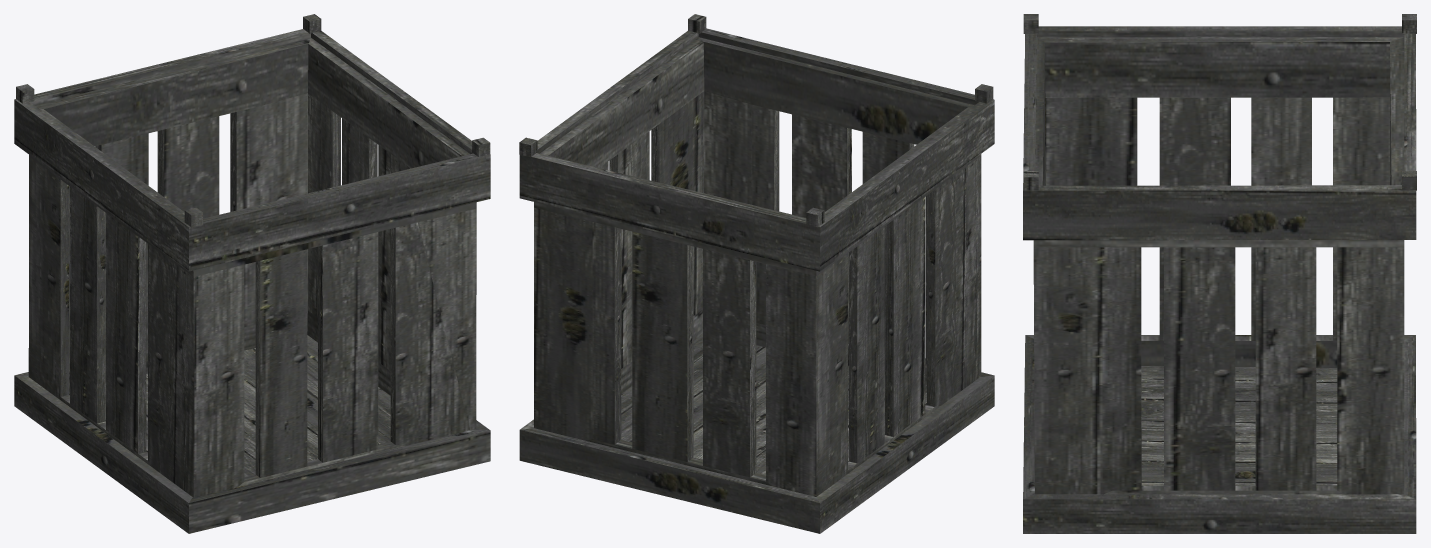
The model's file is BoxA.dae.
3 renders of one model, left to right at view 1: azimuth 30°, elevation 25°; view 2: azimuth 150°, elevation 25°; view 3: azimuth 270°, elevation 25°, orthographic. The views are drawn at different scales.
Parts seen in each view (by area): view 1: meshU3D; view 2: meshU3D; view 3: meshU3D.
Part boxes in pixels (x1,y1,x2,y2): meshU3D: [14, 14, 490, 533]; meshU3D: [519, 14, 994, 533]; meshU3D: [1023, 14, 1416, 533].
Size of the model in its own units: 20.68 by 20.93 by 20.95.
